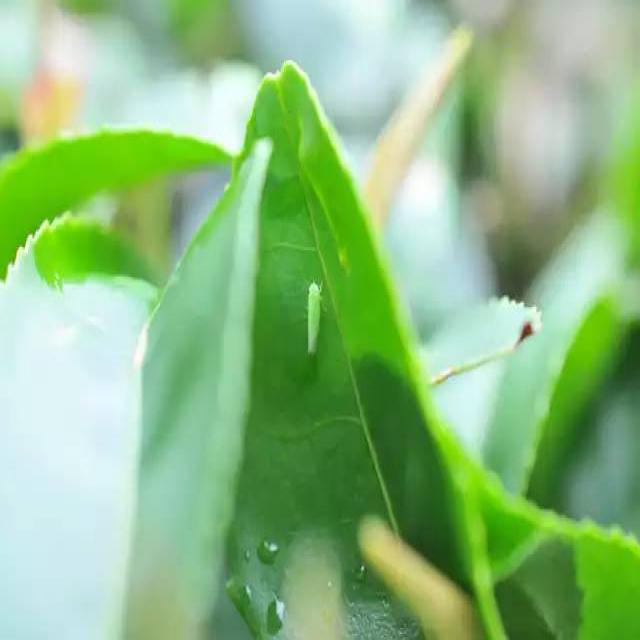Yechan: (301, 265, 329, 360)
